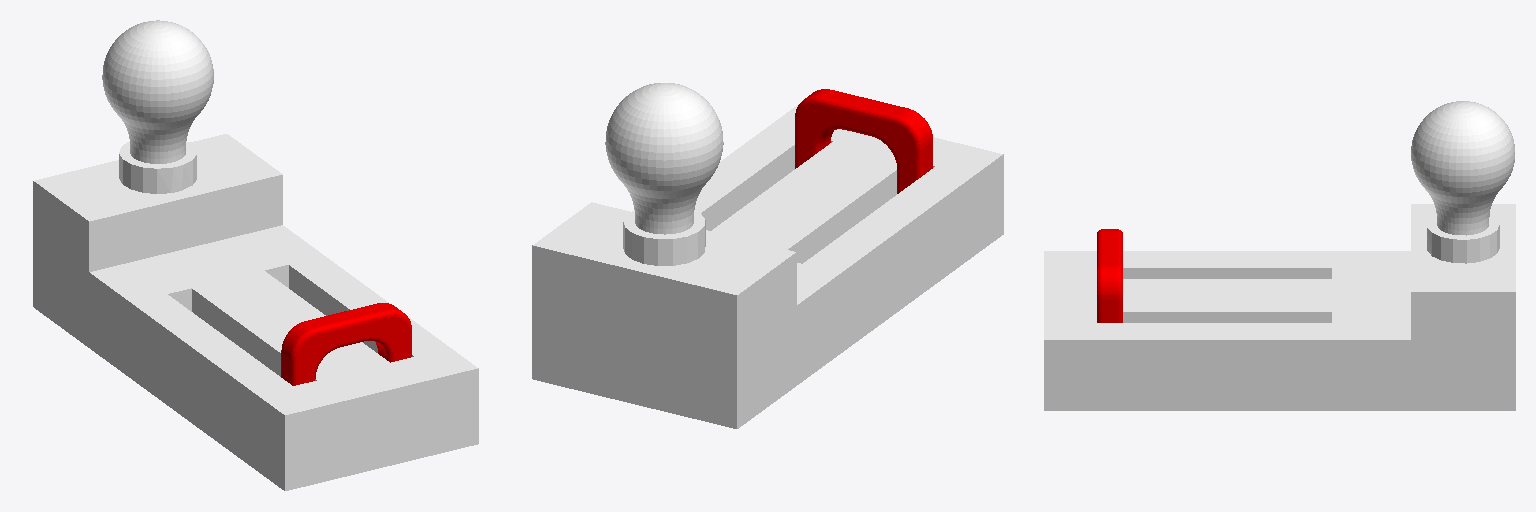
robot.urdf — switch_light:
<?xml version="1.0" encoding="utf-8"?>
<robot
  name="switch_light">
  <link concave="yes"
    name="base_link">
    <inertial>
      <origin
        xyz="-2.7590207171523E-18 0.0593633246412344 -0.041987093619272"
        rpy="0 0 0" />
      <mass
        value="7.87635033702108" />
      <inertia
        ixx="0.143768340807969"
        ixy="-7.20625531864753E-20"
        ixz="7.1348048857746E-18"
        iyy="0.160653442958459"
        iyz="0.010384838827874"
        izz="0.0325219588960975" />
    </inertial>
    <visual>
      <origin
        xyz="0 0 0"
        rpy="0 0 0" />
      <geometry>
        <mesh
          filename="package://bopt_gmm/objects/switch_light/base_link.obj" />
      </geometry>
      <material
        name="white">
        <color
          rgba="1. 1. 1. 1" />
      </material>
    </visual>
    <collision concave="yes">
      <origin
        xyz="0 0 0"
        rpy="0 0 0" />
      <geometry>
        <mesh
          filename="package://bopt_gmm/objects/switch_light/base_link.obj" />
      </geometry>
    </collision>
  </link>
  <link
    name="handle_link">
    <inertial>
      <origin
        xyz="-2.06812359691662E-17 0.0592752102021964 0.0125"
        rpy="0 0 0" />
      <mass
        value="0.166433988976162" />
      <inertia
        ixx="0.000150092643738413"
        ixy="3.67874334556128E-20"
        ixz="-7.84787606159685E-20"
        iyy="0.000323185902762264"
        iyz="2.04659443790015E-21"
        izz="0.000456794518176314" />
    </inertial>
    <visual>
      <origin
        xyz="0 0 0"
        rpy="0 0 0" />
      <geometry>
        <mesh
          filename="package://bopt_gmm/objects/switch_light/handle_link.obj" />
      </geometry>
      <material
        name="red">
        <color
          rgba="1 0 0 1" />
      </material>
    </visual>
    <collision>
      <origin
        xyz="0 0 0"
        rpy="0 0 0" />
      <geometry>
        <mesh
          filename="package://bopt_gmm/objects/switch_light/handle_link_vhacd2.obj" />
      </geometry>
    </collision>
  </link>
  <joint
    name="base__handle"
    type="prismatic">
    <origin
      xyz="0 -0.15 0.025"
      rpy="1.5707963267949 0 0" />
    <parent
      link="base_link" />
    <child
      link="handle_link" />
    <axis
      xyz="0 0 -1" />
    <limit
      lower="0"
      upper="0.2"
      effort="0"
      velocity="0" />
  </joint>
  <link
    name="light_link">
    <inertial>
      <origin
        xyz="-8.65150682881562E-19 0.0870635790947573 0"
        rpy="0 0 0" />
      <mass
        value="0.641726447217232" />
      <inertia
        ixx="0.00105573280349985"
        ixy="8.83670027371603E-21"
        ixz="4.78335534564133E-37"
        iyy="0.000567898531852214"
        iyz="1.39689666208673E-20"
        izz="0.00105573280349985" />
    </inertial>
    <visual>
      <origin
        xyz="0 0 0"
        rpy="0 0 0" />
      <geometry>
        <mesh
          filename="package://bopt_gmm/objects/switch_light/light_link.STL" />
      </geometry>
      <material
        name="white">
        <color
          rgba="1 1 1 1" />
      </material>
    </visual>
    <collision>
      <origin
        xyz="0 0 0"
        rpy="0 0 0" />
      <geometry>
        <mesh
          filename="package://bopt_gmm/objects/switch_light/light_link.STL" />
      </geometry>
    </collision>
  </link>
  <joint
    name="base__light"
    type="fixed">
    <origin
      xyz="0 0.175 0.125"
      rpy="1.5707963267949 0 0" />
    <parent
      link="base_link" />
    <child
      link="light_link" />
    <axis
      xyz="0 0 0" />
  </joint>
</robot>

--- What the picture shows (computed from the rendered views, not written in the file) ---
The picture shows the robot from 3 angles, left to right: view 1: azimuth 30°, elevation 25°; view 2: azimuth 150°, elevation 25°; view 3: azimuth 270°, elevation 25°; orthographic projection.
Model switch_light with 3 links and 2 joints (1 prismatic, 1 fixed), rooted at base_link, posed every joint at zero.
Visible links, largest first — view 1: base_link, light_link, handle_link; view 2: base_link, light_link, handle_link; view 3: base_link, light_link, handle_link.
Boxes of the visible links, x1,y1,x2,y2 form: base_link: (33, 134, 478, 490); light_link: (102, 20, 213, 163); handle_link: (281, 303, 411, 385); base_link: (532, 104, 1003, 428); light_link: (605, 83, 723, 234); handle_link: (795, 89, 932, 193); base_link: (1044, 204, 1515, 410); light_link: (1411, 101, 1514, 235); handle_link: (1097, 229, 1122, 322).
Bounding box of the posed robot: 0.2 × 0.45 × 0.275 m (x, y, z).
Meshes: 3 distinct files referenced, 3 mesh visuals loaded (1 binary STL, 2 OBJ).